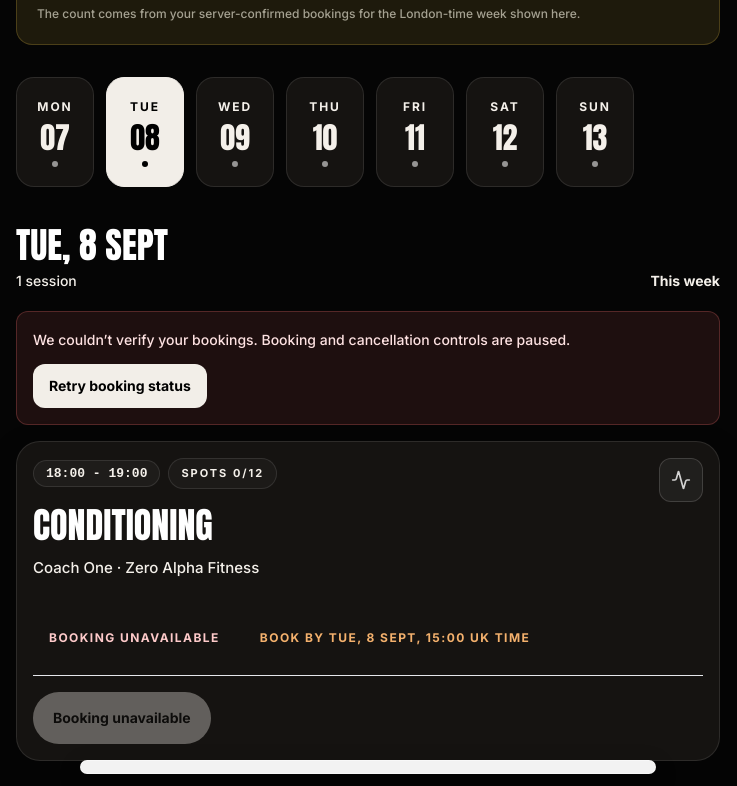
Test: member schedule hardening › pauses booking actions on a booking-read error and makes the read retryable
(page scrolled)
Expected: the button "Booking unavailable" is disabled, [33,692,211,744]
Click the button "Retry booking status".
click(120, 386)  # box [33,364,207,408]
(page scrolled)
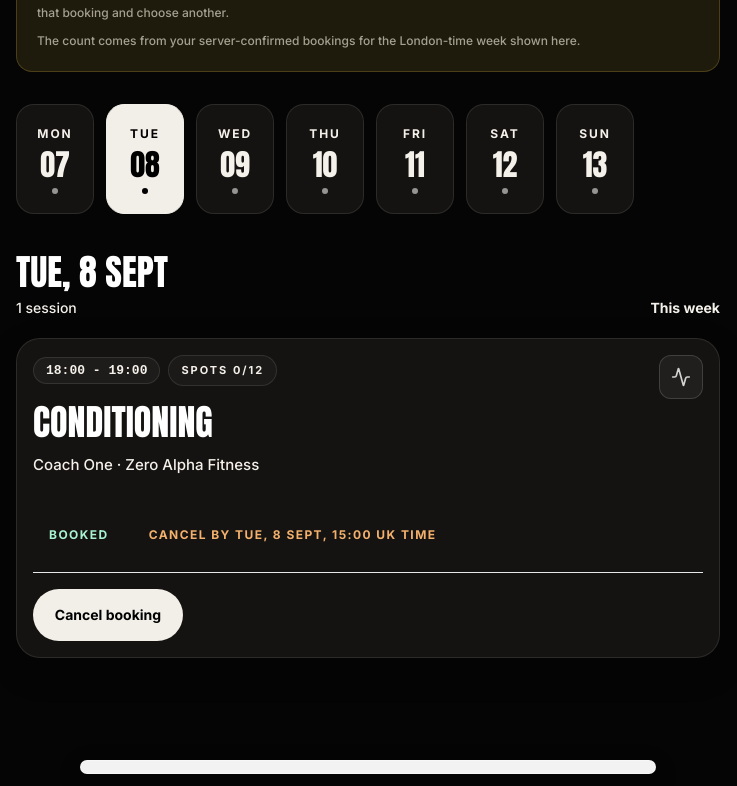
Now the button "Cancel booking" is enabled, box [33,589,183,641]
